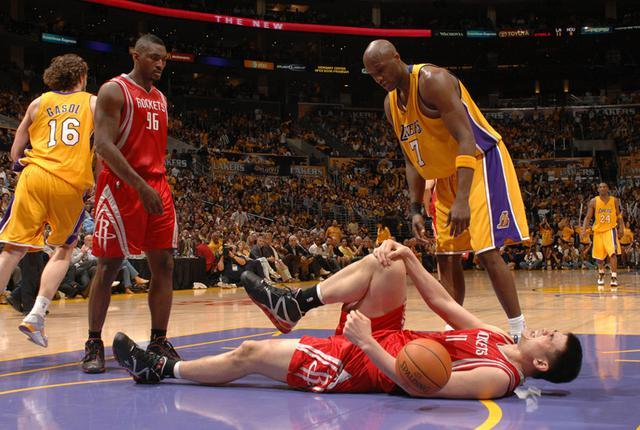10+: (2, 35, 640, 405)
down: (94, 231, 588, 399)
